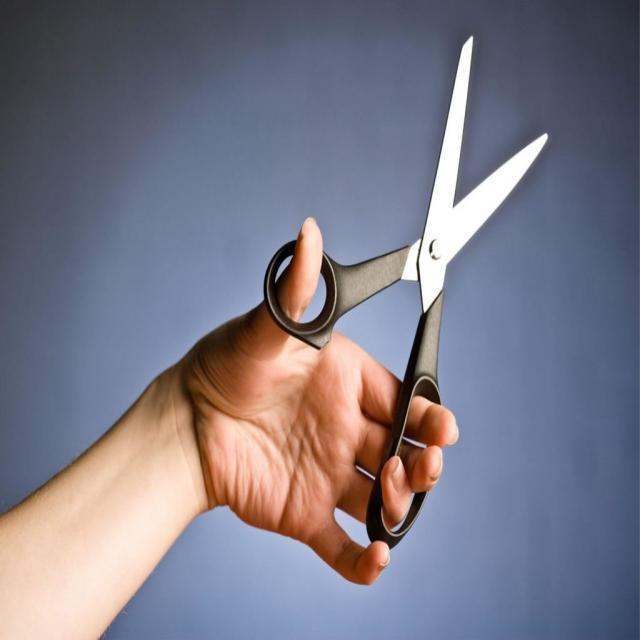scissors: (261, 34, 550, 556)
